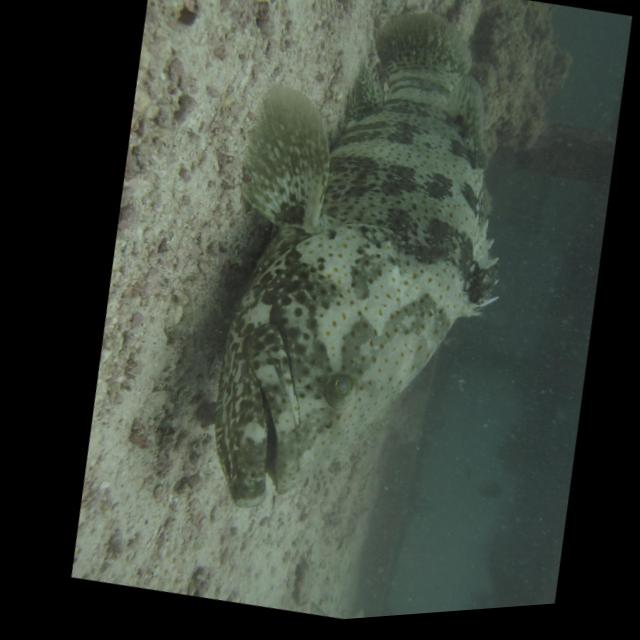Groupers: (147, 0, 585, 559)
